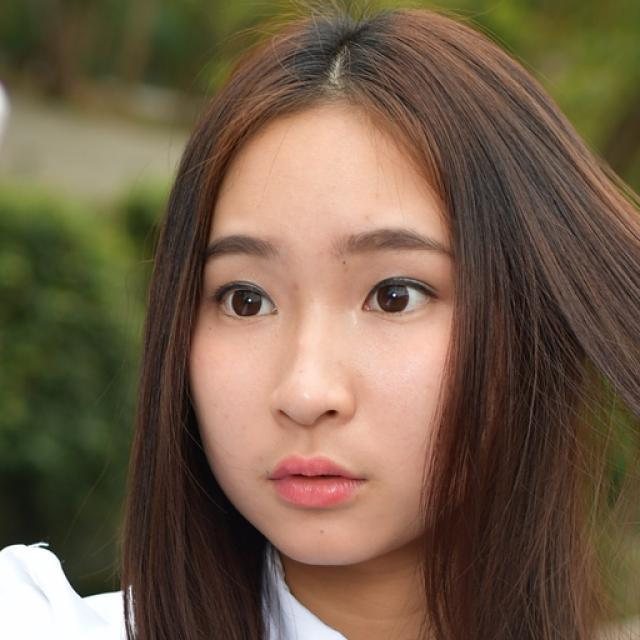surprise: (188, 93, 477, 568)
